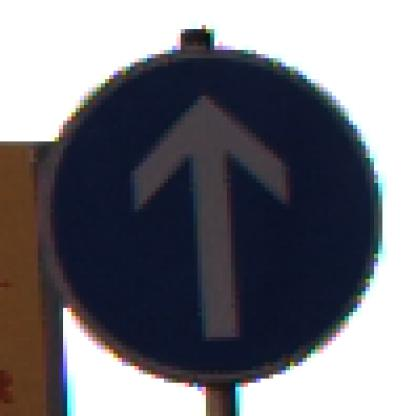AheadOnly: (39, 39, 383, 380)
